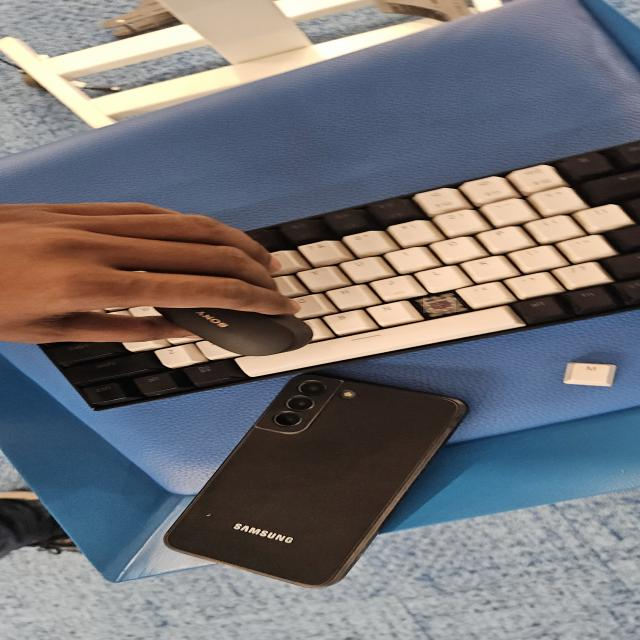C: (421, 298, 464, 312), (423, 297, 456, 313), (422, 299, 456, 313)
